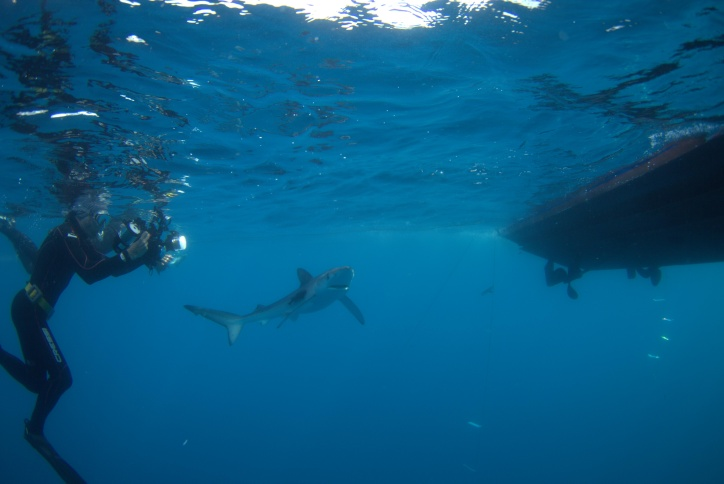Azul: (165, 251, 401, 356)
